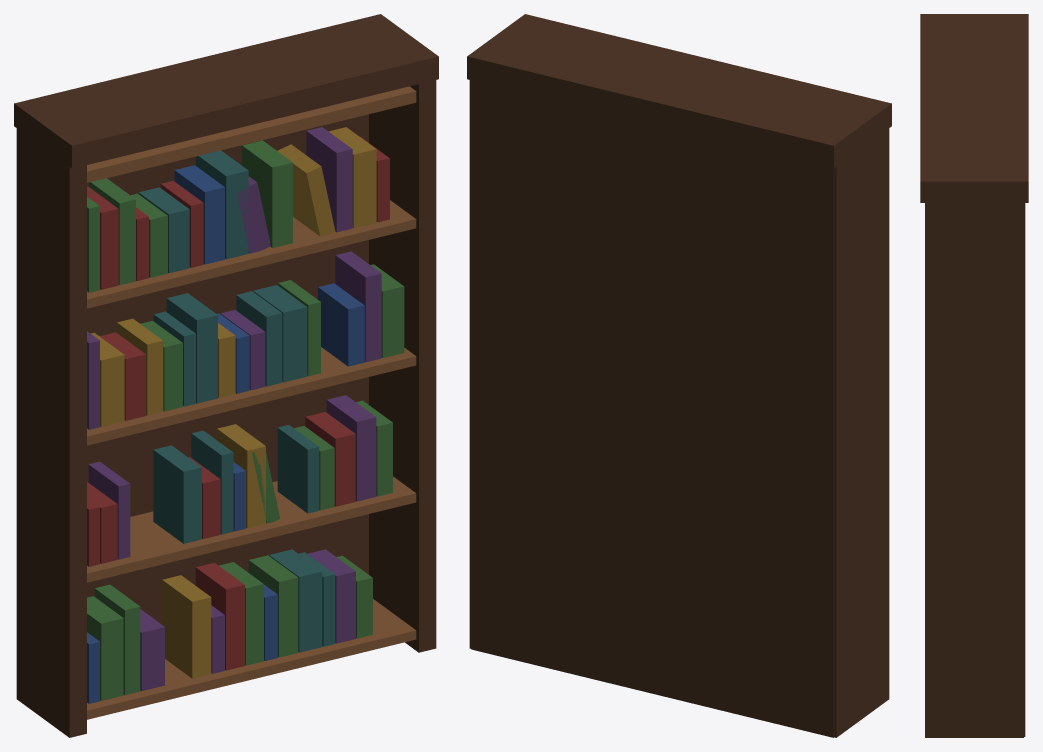
Rendered from bookshelf_tall.glb.
3 views of the same model, side by side, from view 1: azimuth 30°, elevation 25°; view 2: azimuth 150°, elevation 25°; view 3: azimuth 270°, elevation 25° (orthographic). The views are drawn at different scales.
Parts seen in each view (by area): view 1: bookshelf_tall; view 2: bookshelf_tall; view 3: bookshelf_tall.
Boxes of the visible parts, <box> form: bookshelf_tall: <box>14,14,438,737</box>; bookshelf_tall: <box>467,14,891,737</box>; bookshelf_tall: <box>920,14,1028,737</box>.
Size of the model in its own units: 1.68 by 2.6 by 0.46.
